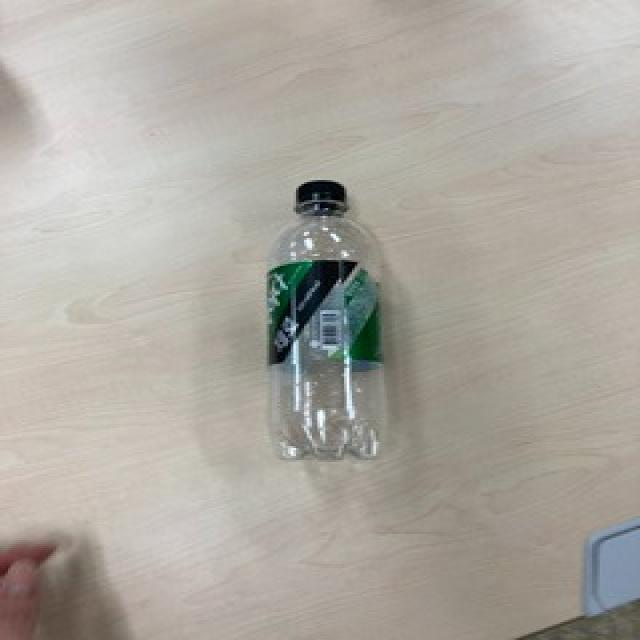good: (260, 172, 390, 472)
